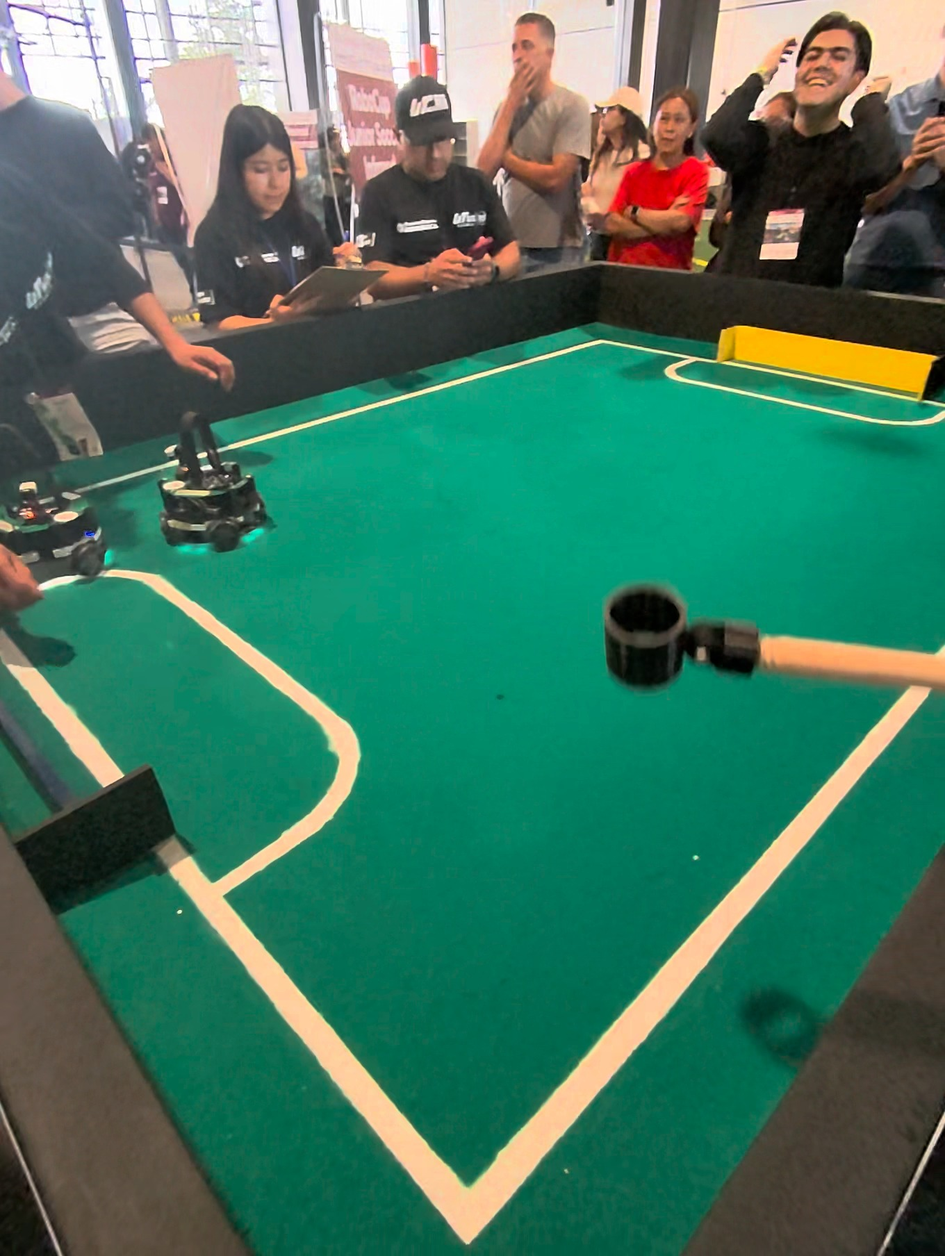Robot: (157, 406, 273, 553), (0, 474, 109, 580)
